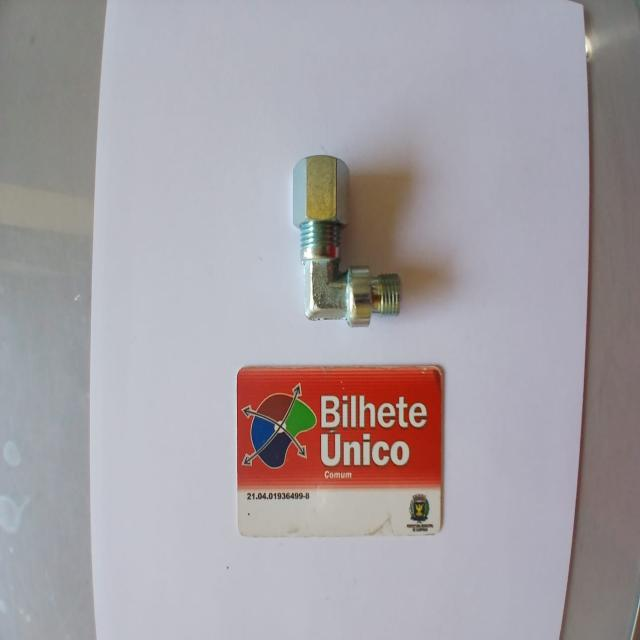cartao: (239, 366, 442, 537)
rosca_externa: (294, 155, 401, 327)
